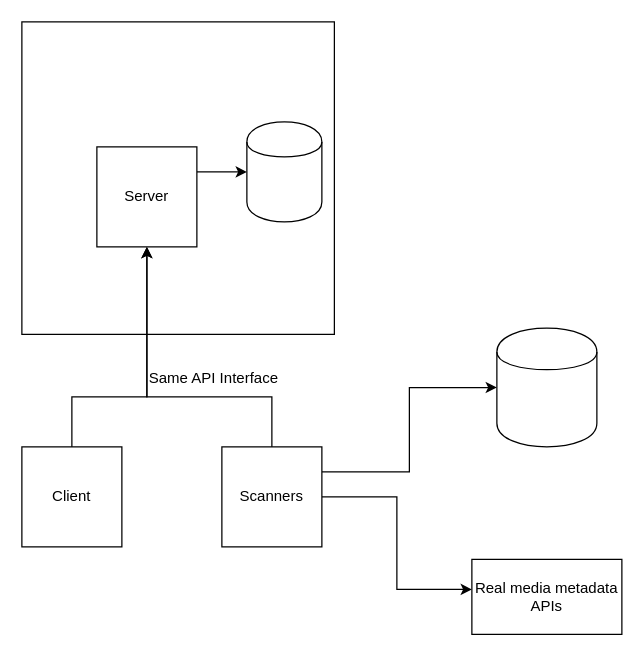
This 644x656 diagram has some shape labels left out. The shapes that lost their labels are listed below. From the top down, each one's centre as x and y in pixels, then its label:
At [284,171]: "SQLite3".
At [546,387]: "Filesystem".
